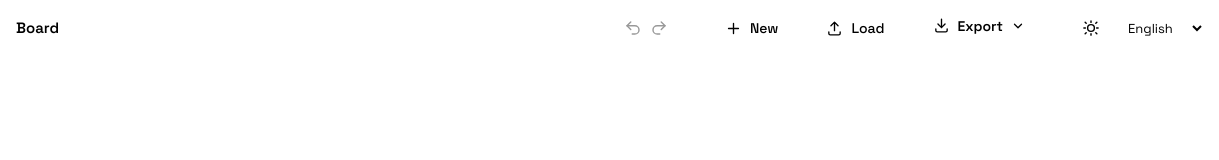
Test: TopBar › export choice › Escape closes the choices and returns focus to Export, without reaching the page
Click the button "Export".
click(979, 26)  # box top-left (916, 17), bottom-right (1041, 35)
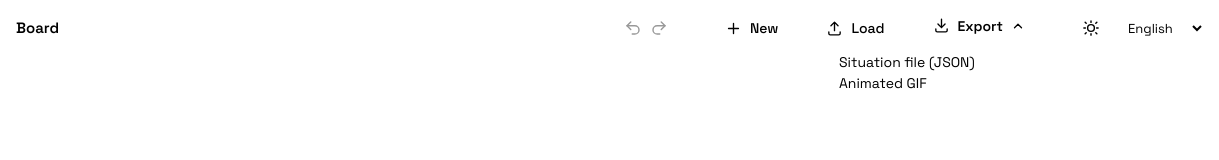
Press Escape in the button "Situation file (JSON)", box top-left (827, 53), bottom-right (1035, 71)
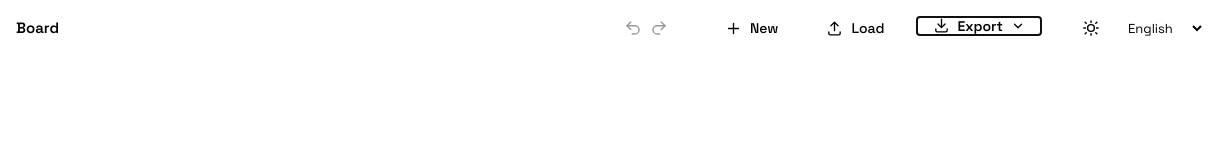
Now the button "Export" is collapsed, box top-left (916, 17), bottom-right (1041, 35)
